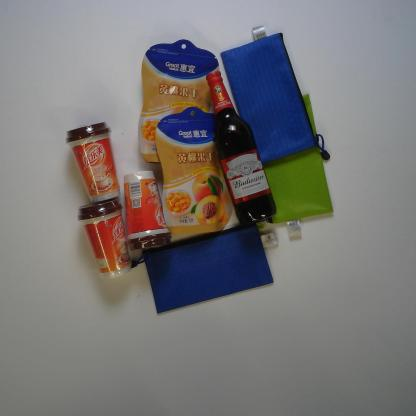Alcohol: (205, 70, 278, 228)
Dried Fruit: (137, 38, 220, 166), (154, 105, 233, 237)
Instant Drink: (76, 197, 133, 281), (64, 121, 122, 203), (122, 170, 171, 252)
Stationery: (220, 23, 333, 165), (131, 220, 274, 315), (262, 93, 334, 237)
